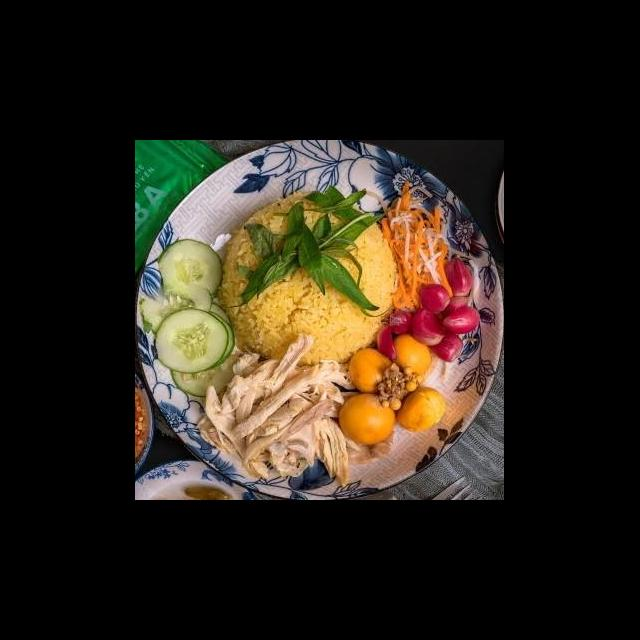com: (216, 188, 402, 369)
rau ram: (226, 200, 386, 317), (270, 184, 388, 235)
thit ga: (190, 331, 364, 490)
trung: (336, 388, 400, 448), (392, 381, 448, 433), (346, 344, 398, 398), (390, 329, 434, 377)
